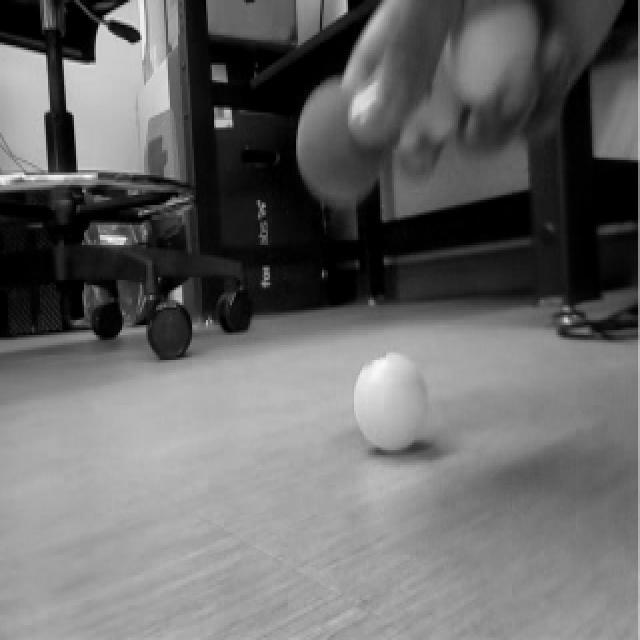ping-pong-ball: (296, 75, 390, 208), (451, 0, 543, 115), (356, 348, 434, 456)
